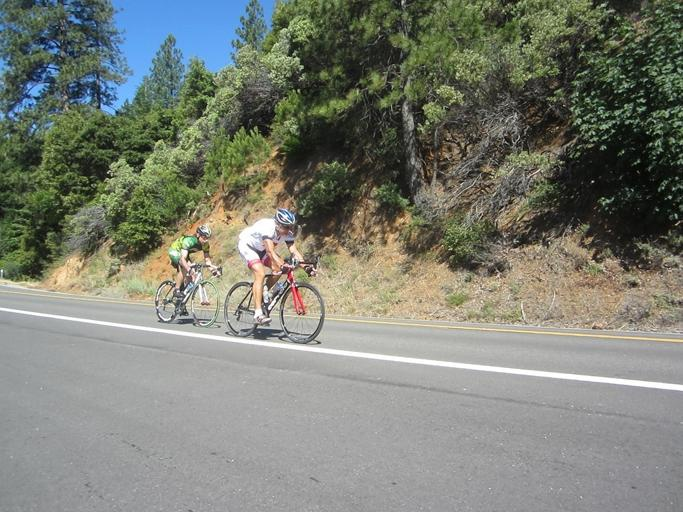non-vehicle: (223, 249, 328, 345), (151, 254, 224, 328)
